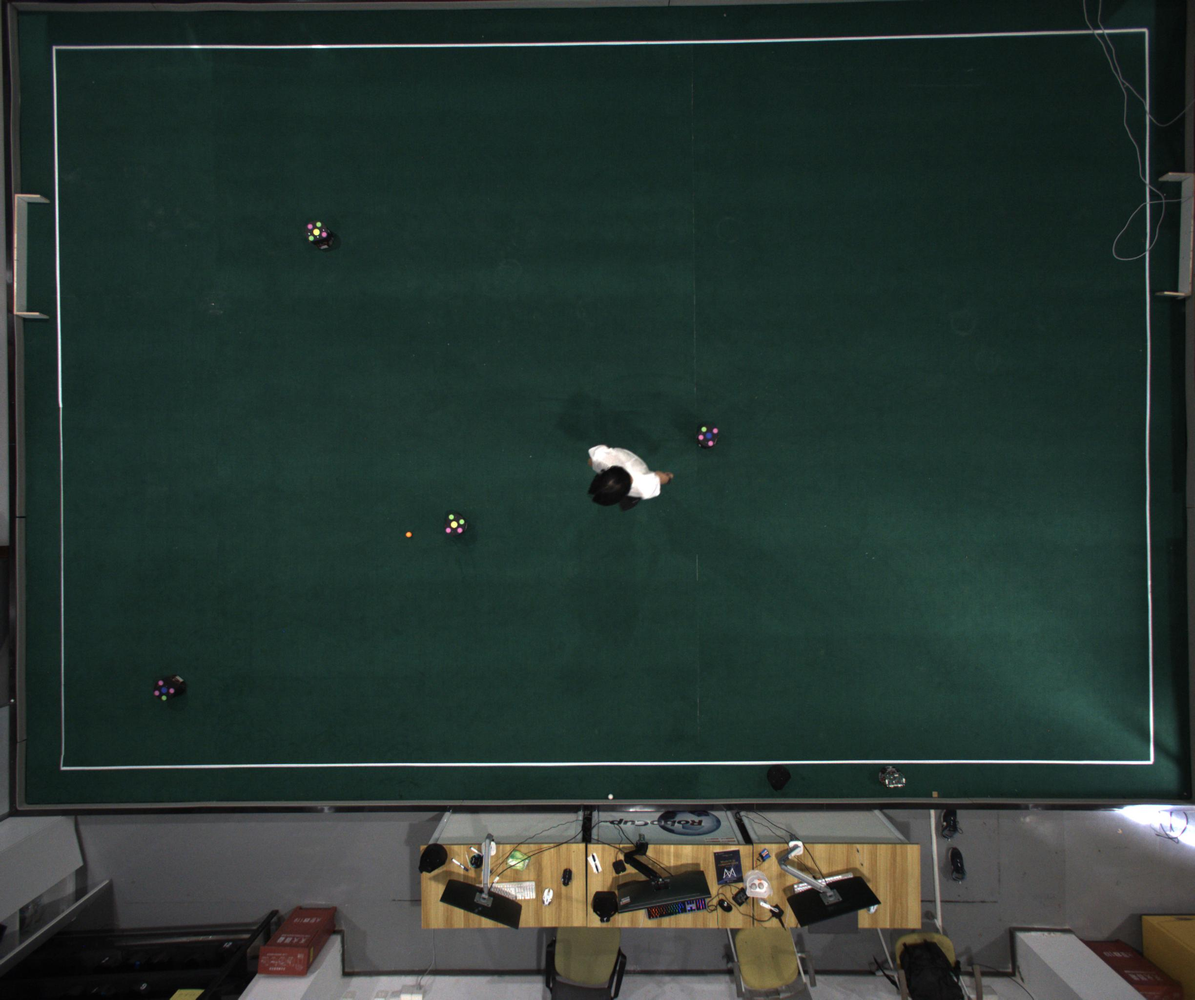ball: (405, 532, 413, 538)
blue_bot: (697, 425, 719, 448), (153, 679, 176, 701)
yellow_bot: (305, 220, 328, 243), (446, 514, 465, 535)
